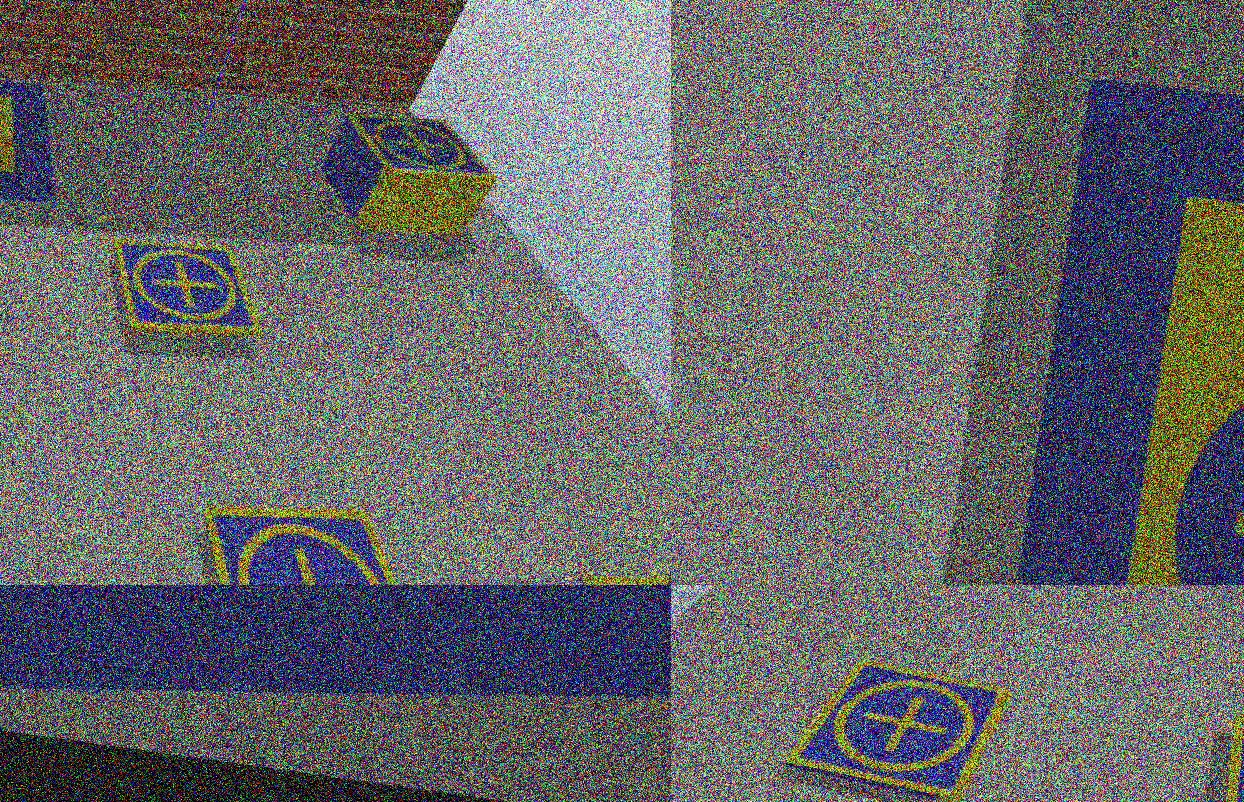large_base: (0, 585, 671, 802), (1009, 68, 1244, 585), (0, 38, 74, 232)
small_base: (777, 638, 1015, 802), (177, 483, 468, 585), (99, 229, 278, 355), (339, 107, 504, 192)
